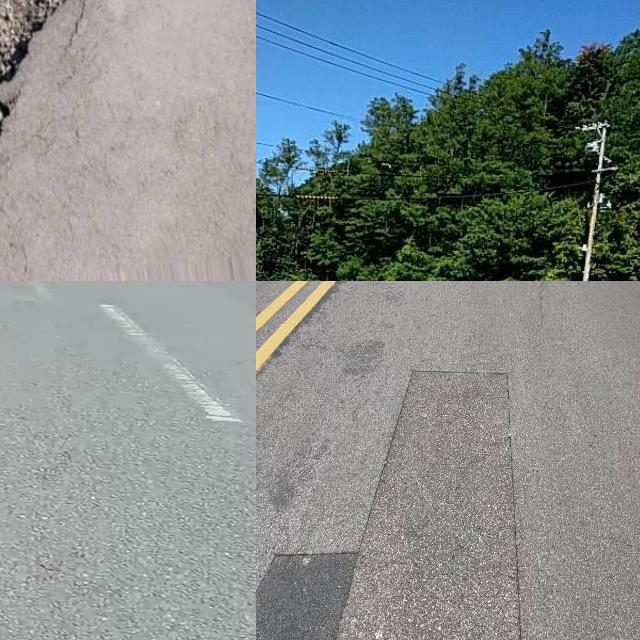Sambungan: (256, 373, 520, 640)
